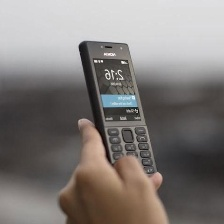phone: (77, 39, 165, 181)
